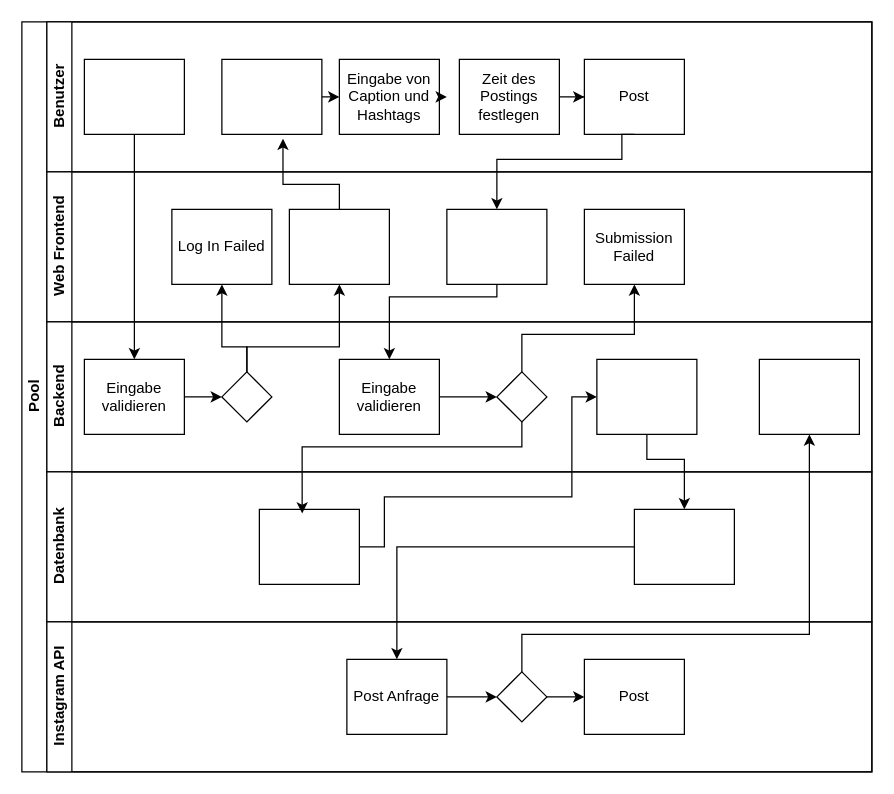
This 894x794 diagram has some shape labels left out. Each missing label, with the box of its shape:
Datenbank- eintrag erstellen: (258, 508, 359, 584)
Log In: (83, 58, 184, 134)
Log In Succesfull: (288, 208, 389, 284)
POST Anfrage an Backend: (446, 208, 547, 284)
Post Failed: (758, 358, 859, 434)
Sammeln der Daten: (633, 508, 734, 584)
Time Check für Posts: (596, 358, 697, 434)
Upload von Bild oder Video: (221, 58, 322, 134)
